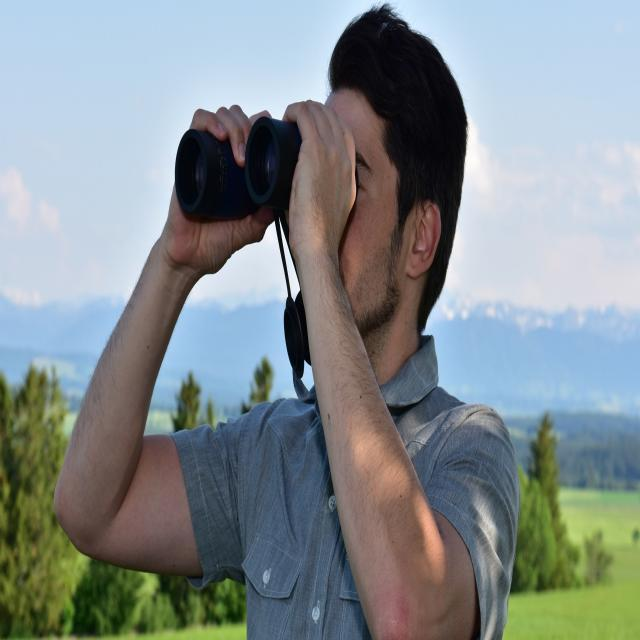Binocular: (155, 95, 331, 236)
